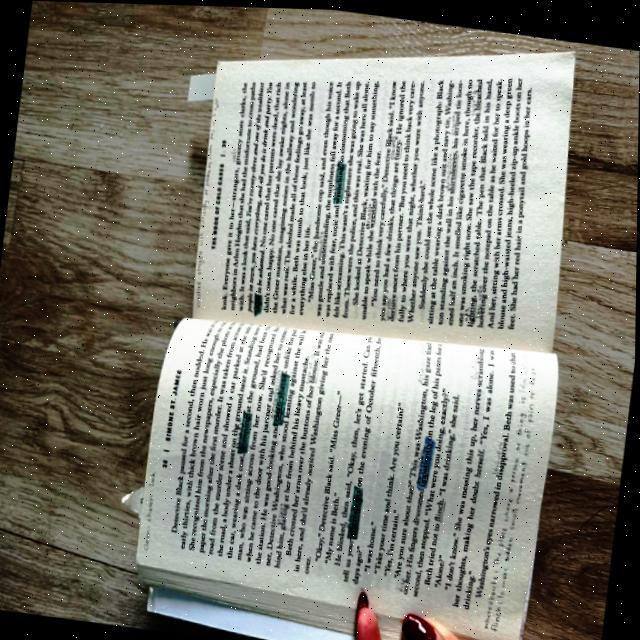Book: (131, 47, 577, 640)
